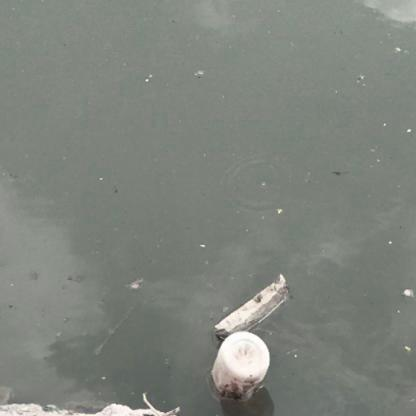Plastic: (207, 331, 275, 397)
Trash: (210, 273, 289, 338)
